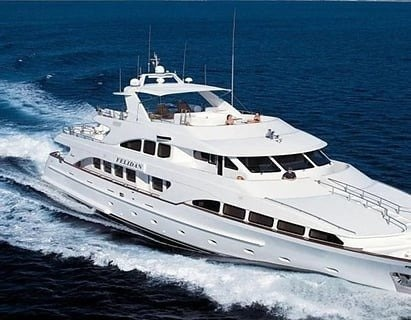yacht: (42, 53, 411, 286)
